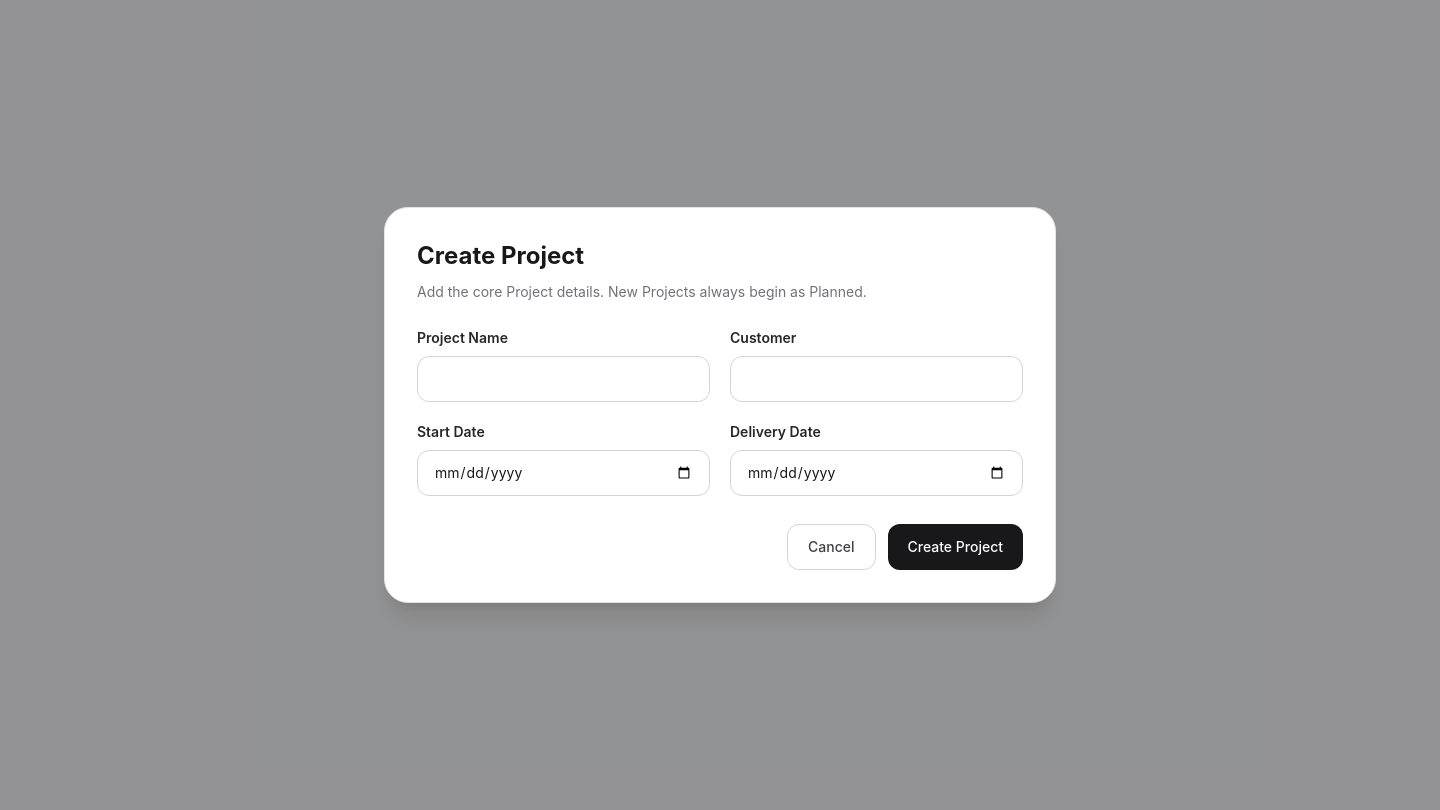
Test: CreateProjectDialog › keeps a safe backend error visible and remains open
Type "  Control Cabinet  " into the field labelled "Project Name" at (564, 379), box [417, 356, 710, 402]
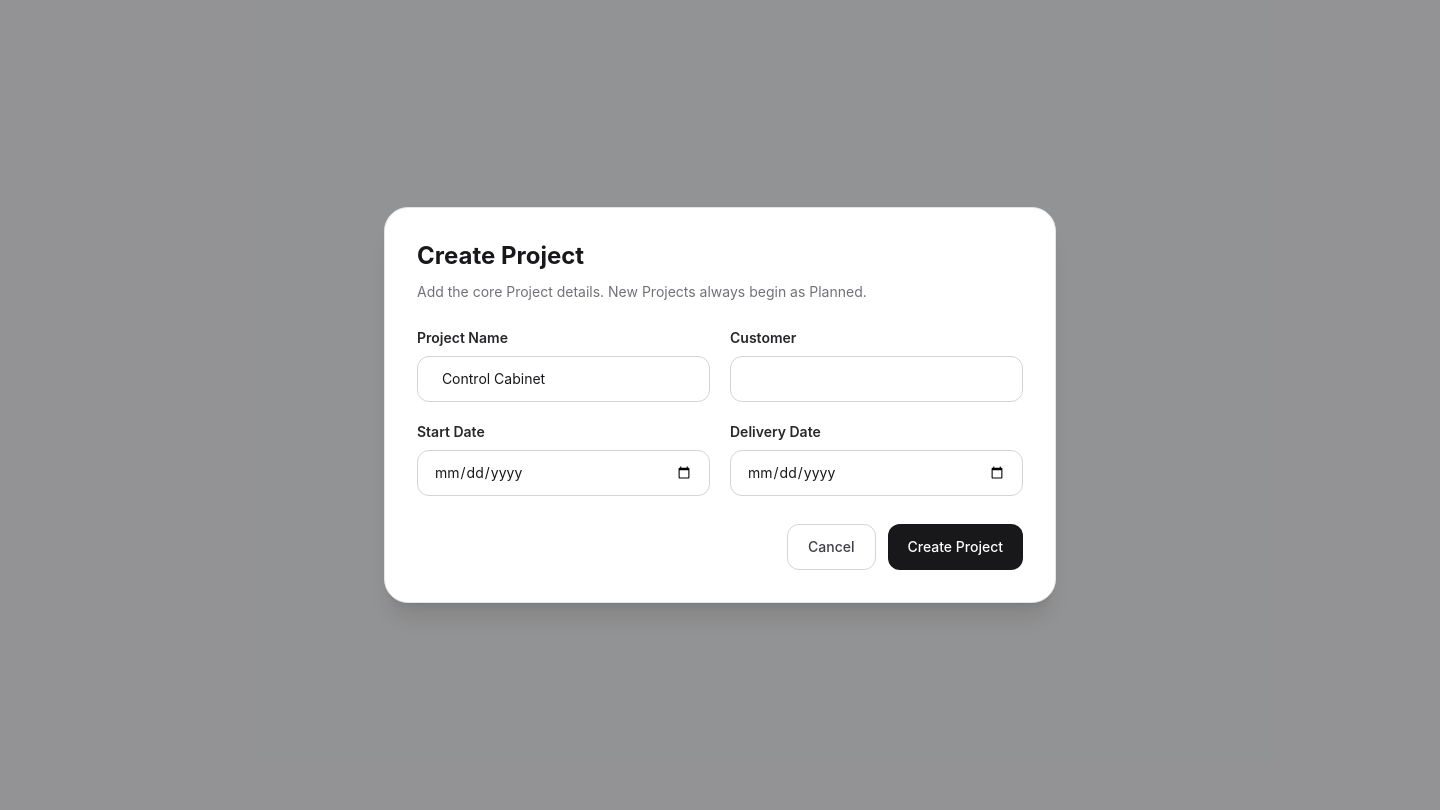
Type "  Alfa Customer  " into the field labelled "Customer" at (876, 379), box [730, 356, 1023, 402]
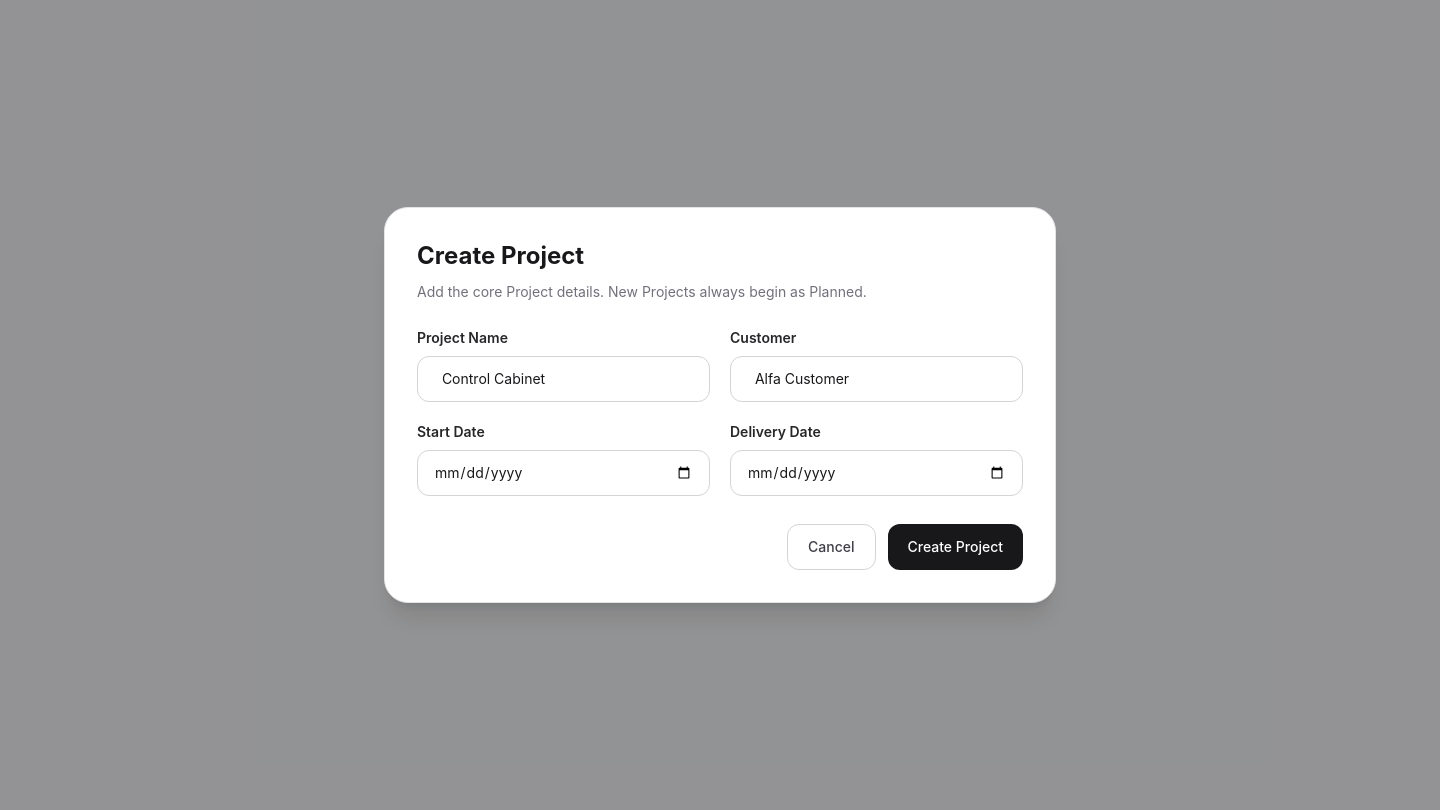
Type "2026-09-01" into the date field labelled "Start Date" at (564, 473), box [417, 450, 710, 496]
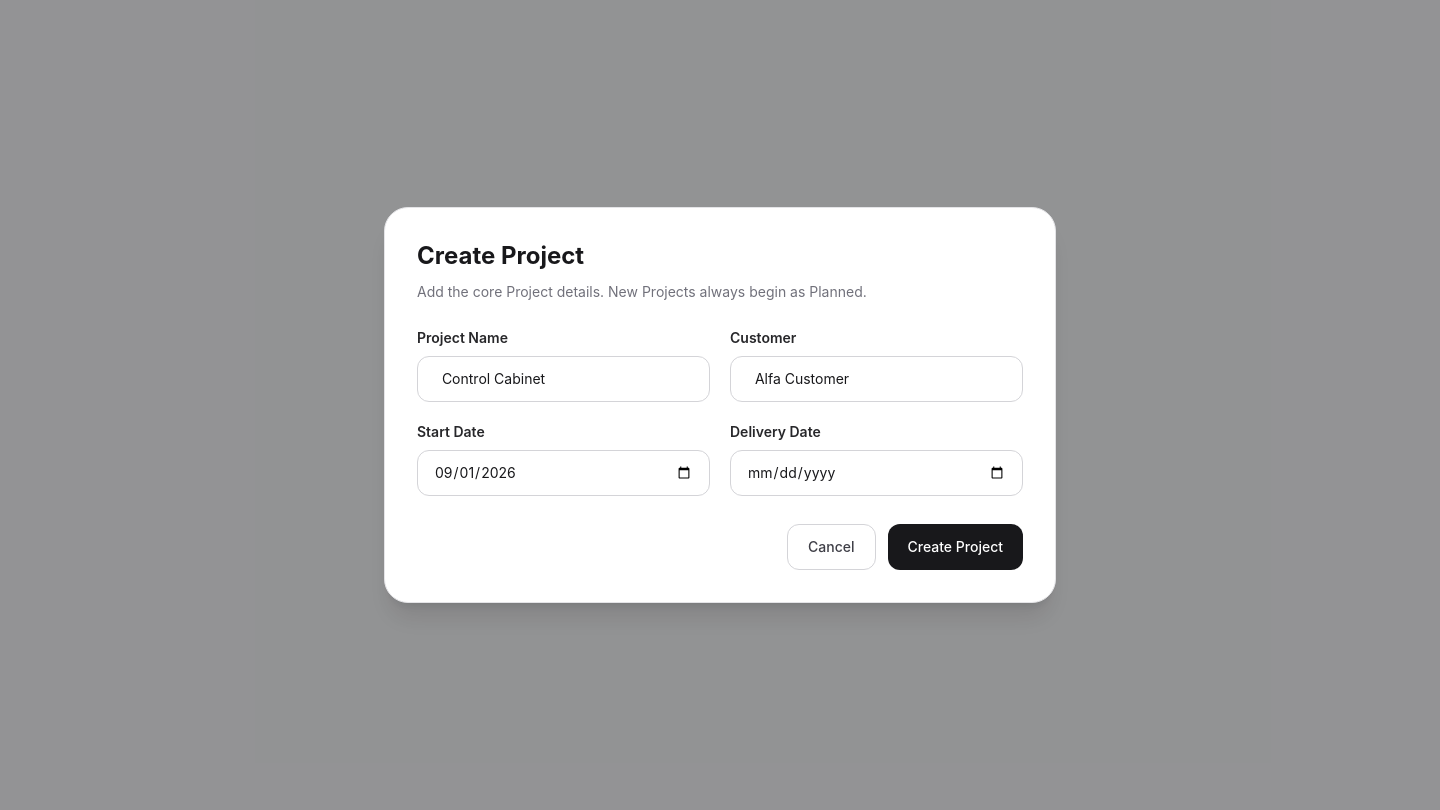
Type "2026-09-30" into the date field labelled "Delivery Date" at (876, 473), box [730, 450, 1023, 496]
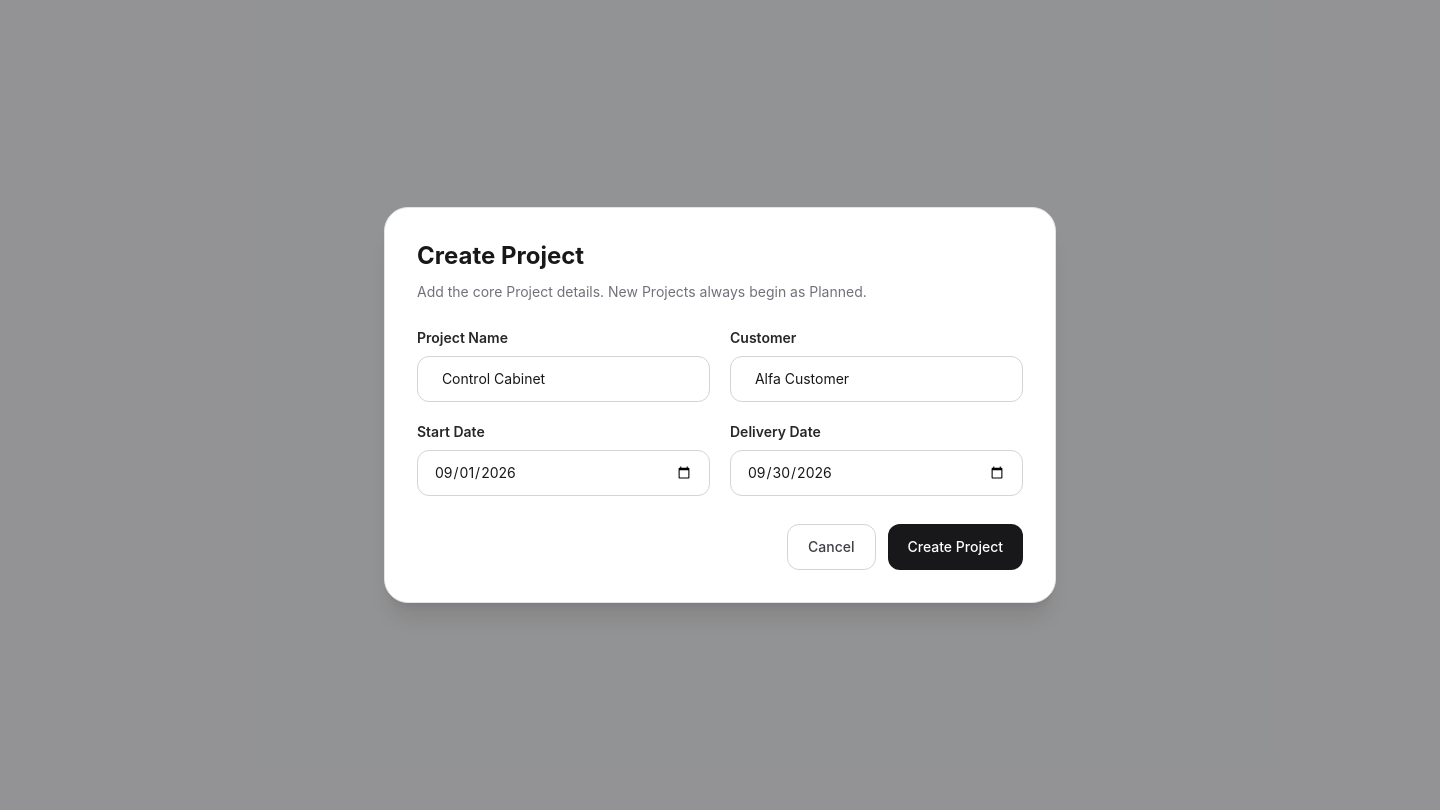
Click the button "Create Project" at (955, 547), box [888, 524, 1023, 570]
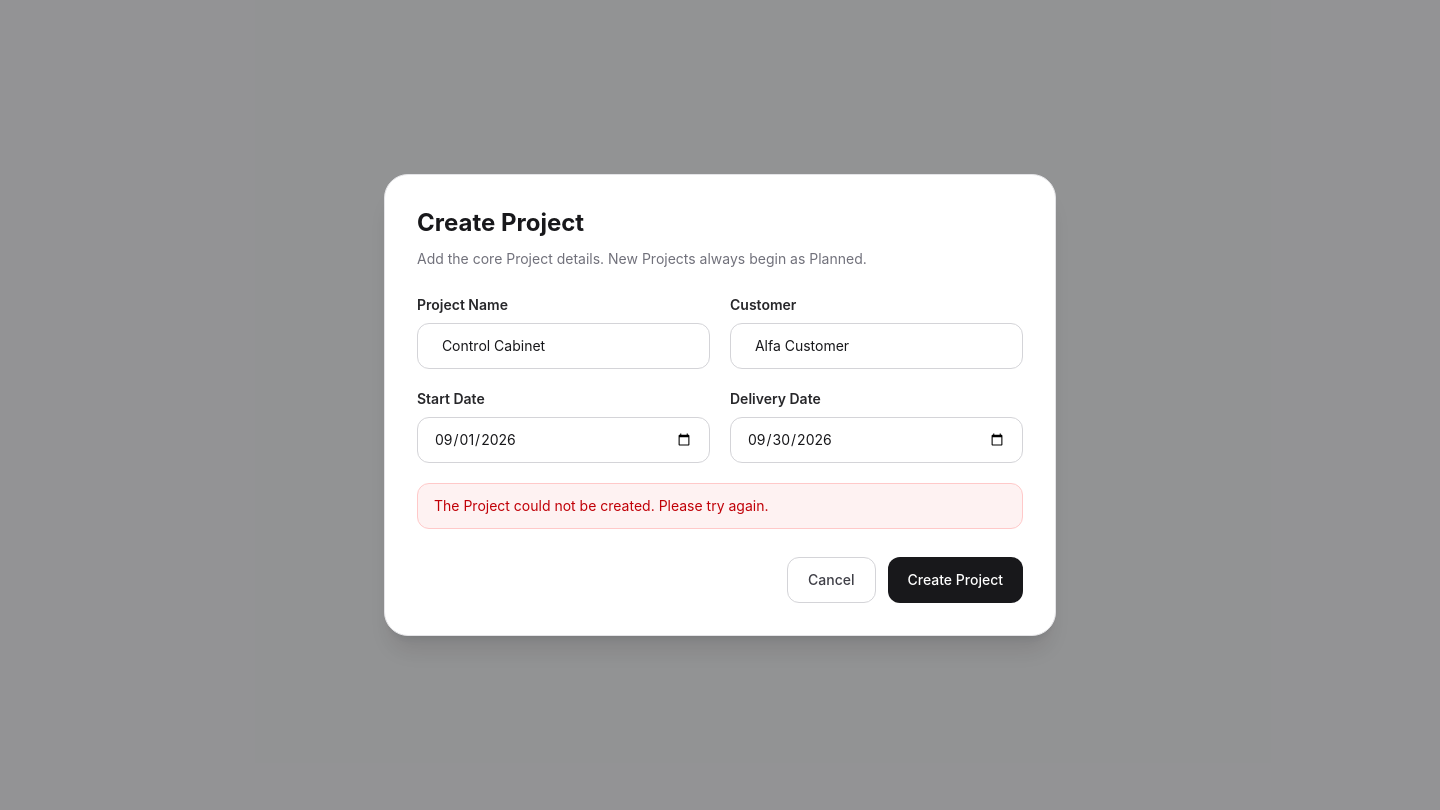
Expected: the dialog "Create Project" is shown, [384, 174, 1056, 636]
Now the message reads "The Project could not be created. Please try again.", box [434, 497, 768, 514]
